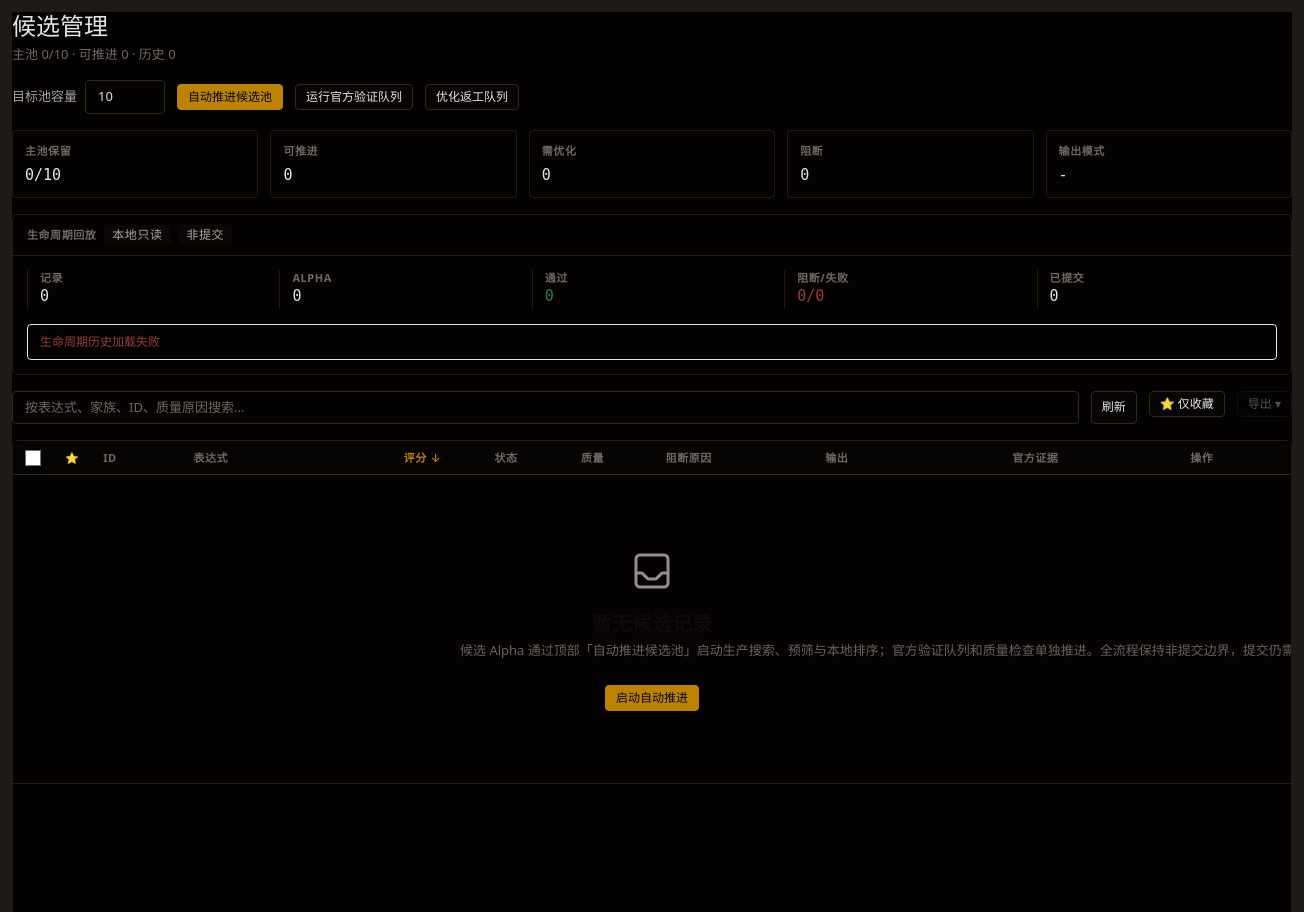
Test: CandidateTable › disables candidate workflow mutations while a workflow is active
The width and height of the screenshot is (1304, 912).
Click the button "自动推进候选池" at [230, 97], box 177,84 -> 283,110
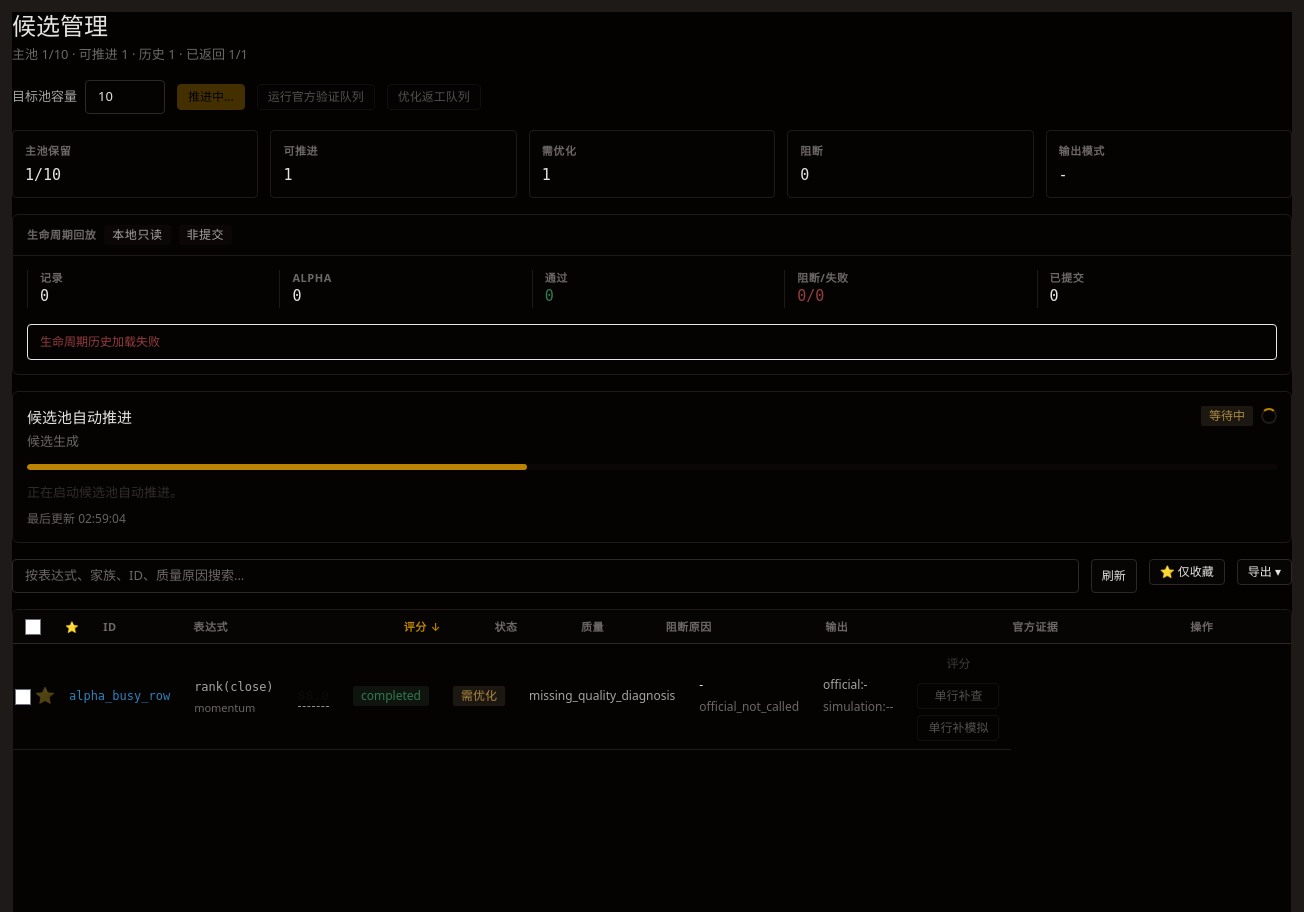
Check: the button "推进中..." is disabled, box 177,84 -> 245,110
Check: the button "运行官方验证队列" is disabled, box 257,84 -> 375,110
Check: the button "优化返工队列" is disabled, box 387,84 -> 481,110
